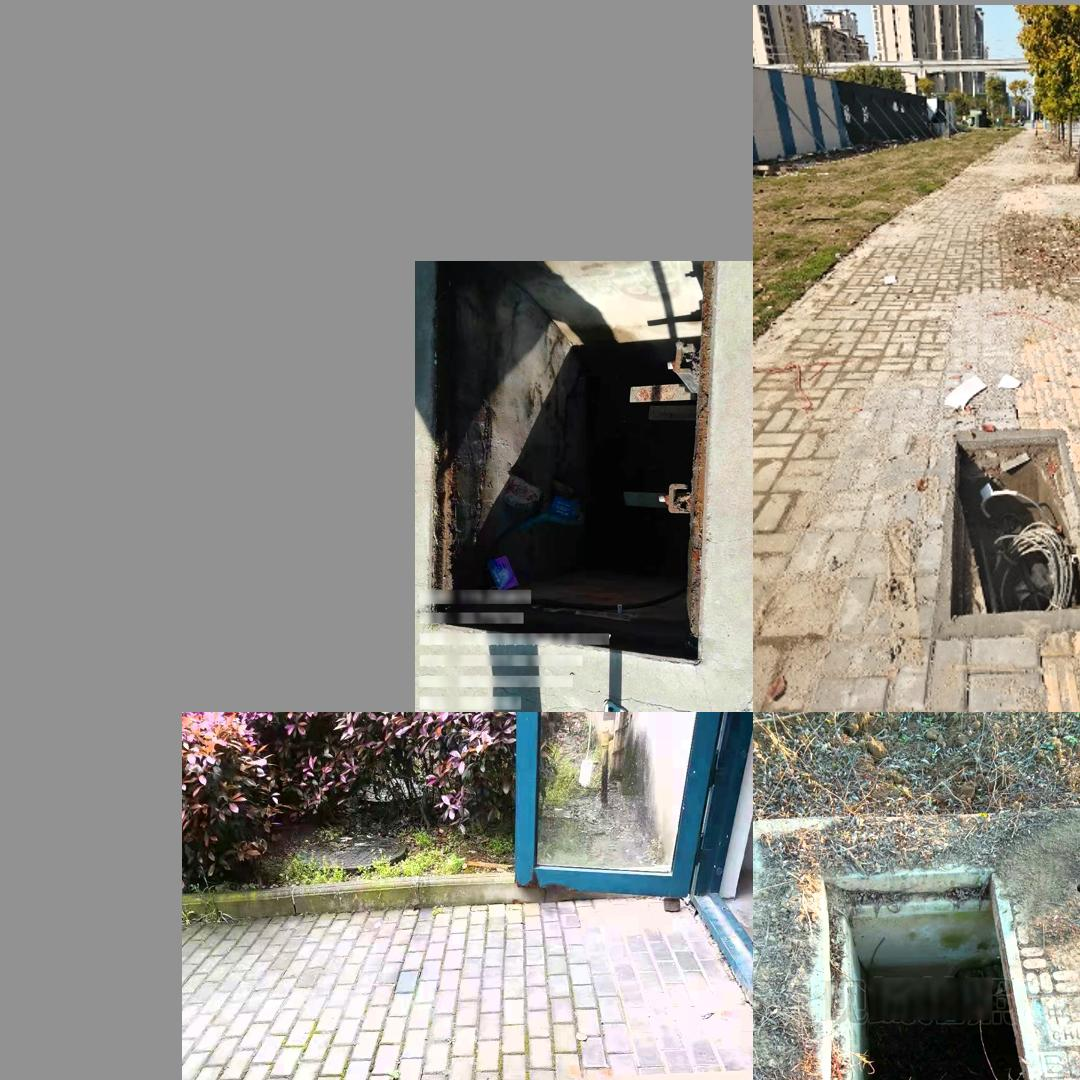lose: (424, 261, 715, 669), (810, 863, 1043, 1080), (923, 400, 1080, 657)
